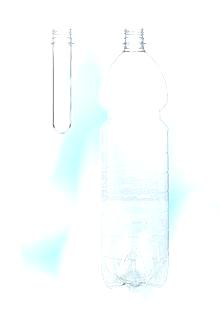bottle: (96, 15, 173, 300)
